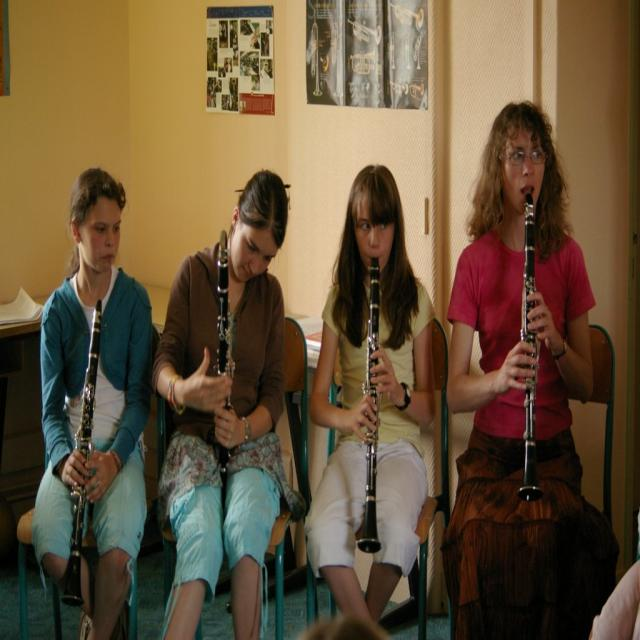clarinet: (57, 295, 106, 615), (357, 254, 384, 557), (518, 186, 542, 504), (211, 228, 230, 480)
